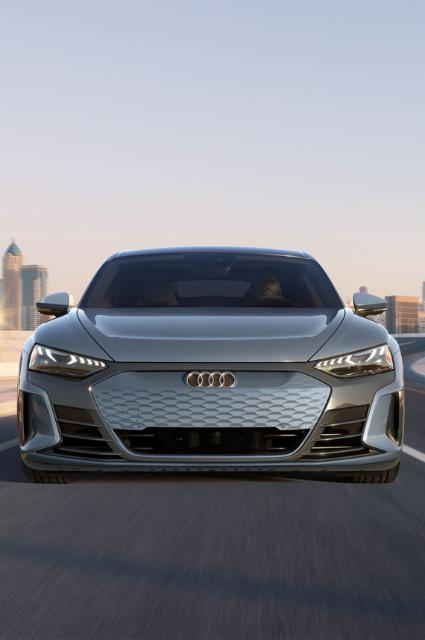audi: (15, 245, 407, 485)
